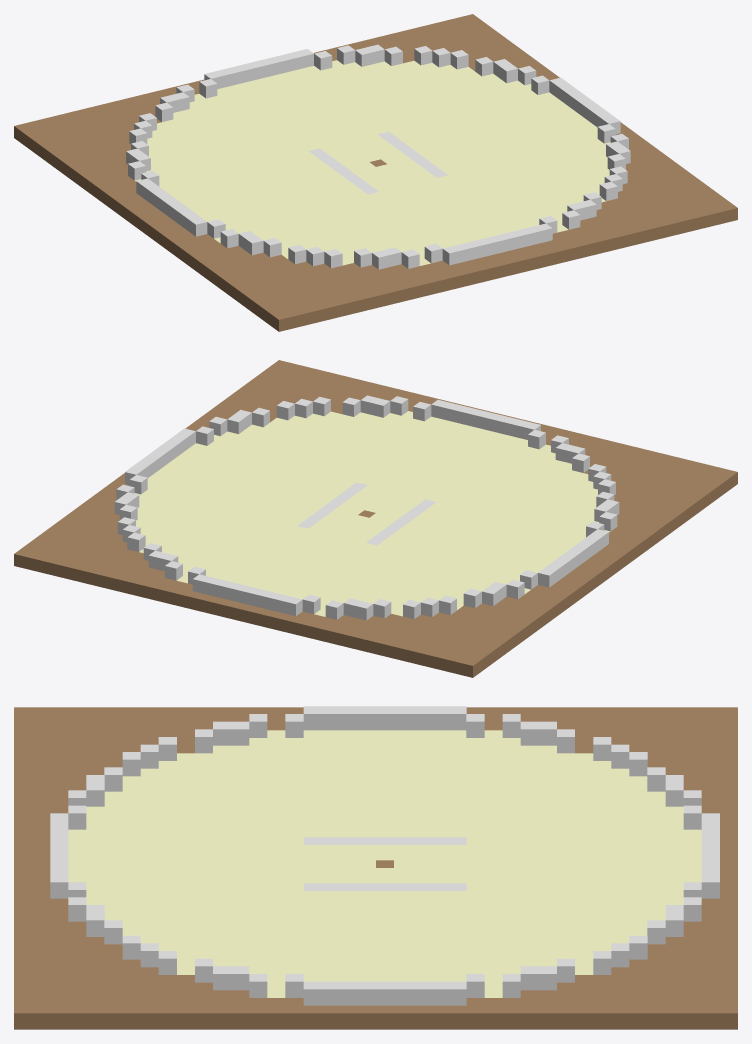
Rendered from arena floor.obj.
3 views of the same model, one above another, from view 1: azimuth 30°, elevation 25°; view 2: azimuth 150°, elevation 25°; view 3: azimuth 270°, elevation 25° (orthographic). The views are drawn at different scales.
Visible parts, largest first — view 1: arena floor; view 2: arena floor; view 3: arena floor.
Part boxes in pixels (x1,y1,x2,y2): arena floor: [14, 14, 737, 331]; arena floor: [14, 360, 737, 677]; arena floor: [14, 706, 737, 1029].
Size of the model in its own units: 40 by 2 by 40.
1 material, 1 textured.
